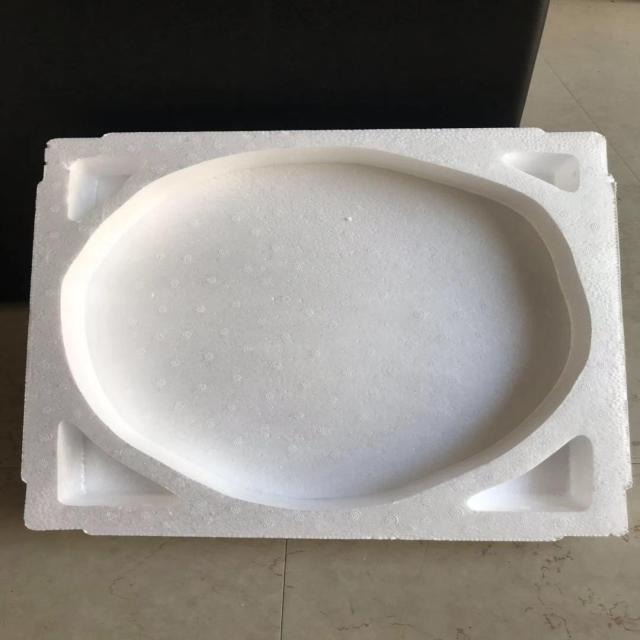styrofoam: (20, 126, 632, 542)
